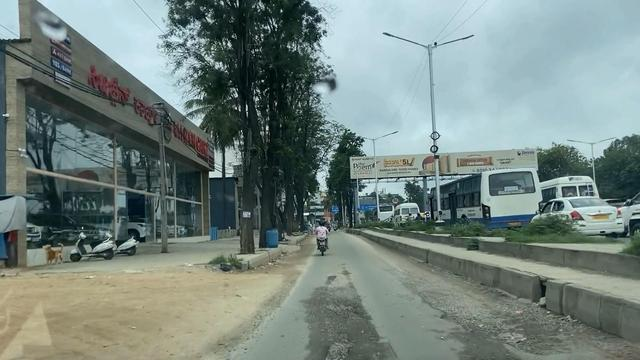RoadDamages: (435, 278, 548, 360), (302, 268, 376, 360)
